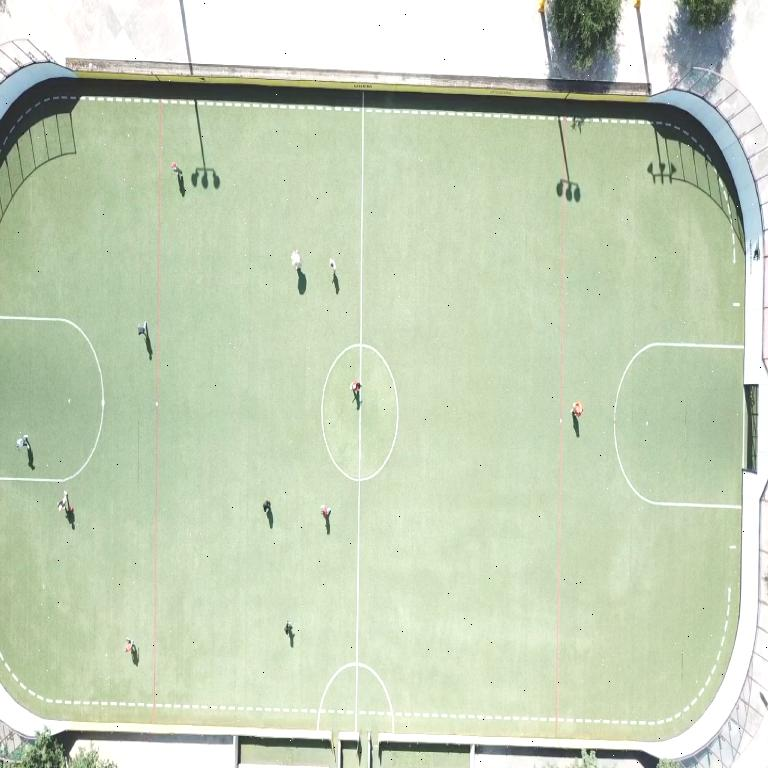AC: (614, 343, 743, 508), (0, 315, 104, 483)
B: (69, 506, 73, 512)
MC: (355, 405, 362, 729)
P: (58, 490, 71, 513), (284, 621, 294, 646), (291, 250, 302, 270), (17, 436, 30, 450), (350, 380, 361, 396), (124, 638, 135, 653), (572, 402, 583, 417), (321, 506, 331, 521), (172, 162, 182, 177), (138, 322, 148, 336), (329, 258, 336, 276), (262, 499, 271, 513)
